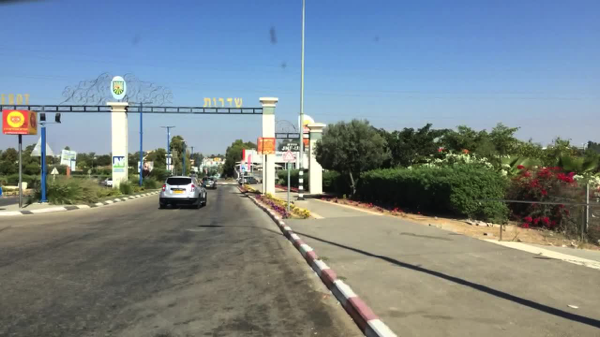car: (156, 175, 207, 210), (202, 176, 219, 189), (238, 176, 258, 185), (104, 177, 113, 187)
traffic sign: (30, 138, 53, 159), (282, 150, 296, 161), (166, 165, 176, 171), (51, 169, 58, 176), (165, 159, 171, 165), (164, 153, 173, 155)
